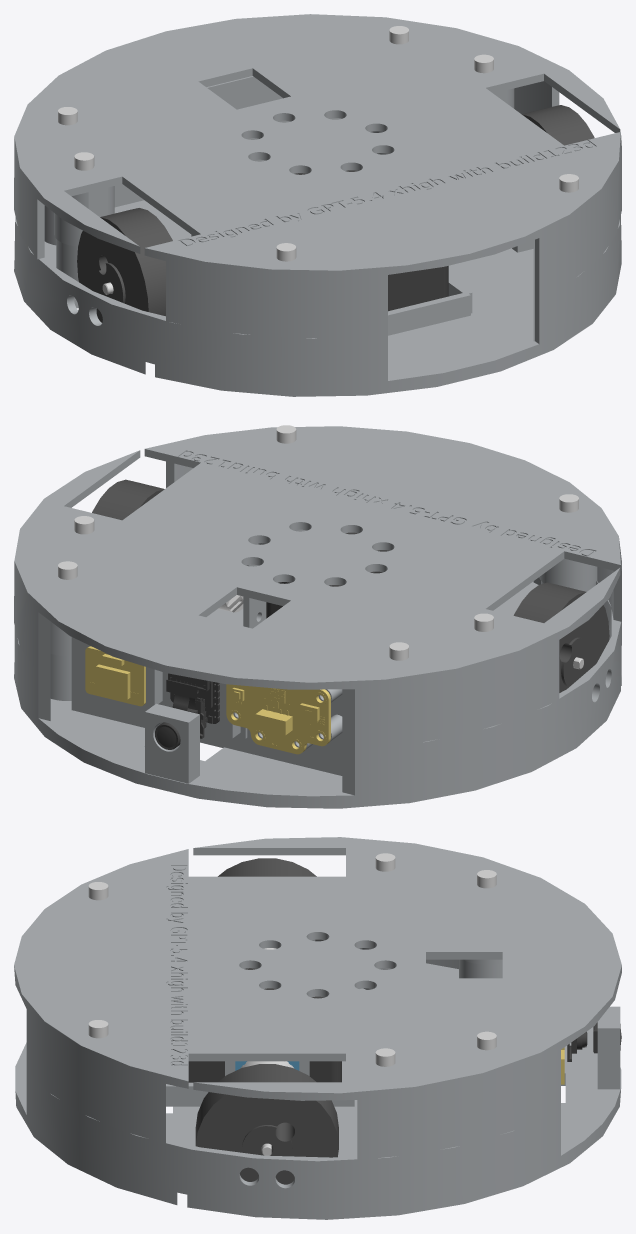
The model's file is flat-disk-robot.glb.
3 renders of one model, top to bottom at view 1: azimuth 30°, elevation 25°; view 2: azimuth 150°, elevation 25°; view 3: azimuth 270°, elevation 25°, orthographic.
Parts seen in each view (by area): view 1: =>[0:1:1:6], =>[0:1:1:4], =>[0:1:1:357], =>[0:1:1:9], =>[0:1:1:407]; view 2: =>[0:1:1:6], =>[0:1:1:4], =>[0:1:1:357], =>[0:1:1:139], =>[0:1:1:407], =>[0:1:1:328], =>[0:1:1:136], =>[0:1:1:330], =>[0:1:1:225]; view 3: =>[0:1:1:6], =>[0:1:1:4], =>[0:1:1:407], =>[0:1:1:9], =>[0:1:1:357].
Part boxes in pixels (x1=…): =>[0:1:1:6]: x1=14, y1=14, x2=621, y2=338; =>[0:1:1:4]: x1=14, y1=76, x2=621, y2=396; =>[0:1:1:357]: x1=77, y1=208, x2=172, y2=322; =>[0:1:1:9]: x1=388, y1=266, x2=448, y2=311; =>[0:1:1:407]: x1=522, y1=105, x2=594, y2=145; =>[0:1:1:6]: x1=14, y1=426, x2=621, y2=749; =>[0:1:1:4]: x1=14, y1=529, x2=621, y2=808; =>[0:1:1:357]: x1=513, y1=582, x2=609, y2=692; =>[0:1:1:139]: x1=226, y1=684, x2=330, y2=754; =>[0:1:1:407]: x1=92, y1=479, x2=164, y2=520; =>[0:1:1:328]: x1=85, y1=646, x2=145, y2=706; =>[0:1:1:136]: x1=155, y1=679, x2=197, y2=749; =>[0:1:1:330]: x1=96, y1=664, x2=130, y2=699; =>[0:1:1:225]: x1=255, y1=709, x2=292, y2=735; =>[0:1:1:6]: x1=14, y1=837, x2=621, y2=1159; =>[0:1:1:4]: x1=15, y1=939, x2=621, y2=1219; =>[0:1:1:407]: x1=195, y1=1064, x2=338, y2=1184; =>[0:1:1:9]: x1=188, y1=1061, x2=341, y2=1082; =>[0:1:1:357]: x1=218, y1=858, x2=323, y2=941.
Bounding box in the file's own units: 0.216 × 0.0568 × 0.216.
